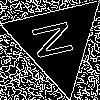N: (31, 16, 83, 61)
